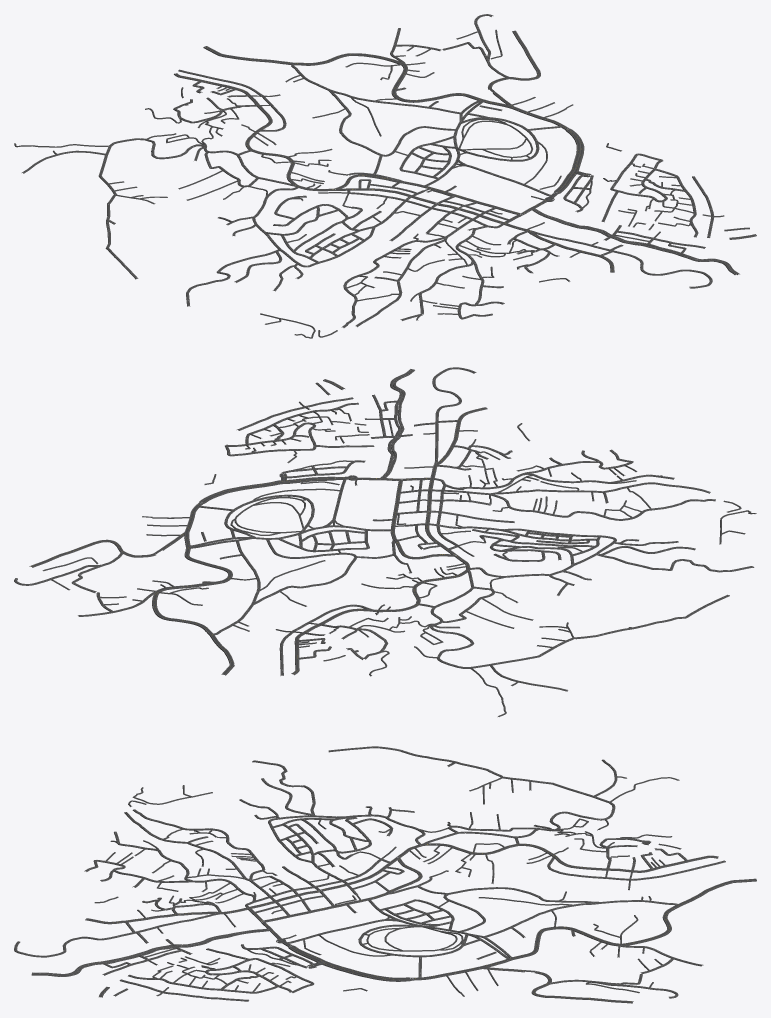
Rendered from osm_real_roads_T_W01_N01.glb.
The picture shows the model from 3 angles, top to bottom: view 1: azimuth 30°, elevation 25°; view 2: azimuth 150°, elevation 25°; view 3: azimuth 270°, elevation 25°; orthographic projection. The views are drawn at different scales.
Visible parts, largest first — view 1: OSM_Roads_T_W01_N01_asphalt_local, OSM_Roads_T_W01_N01_taluy_embankment, OSM_Roads_T_W01_N01_sidewalk_paver, OSM_Roads_T_W01_N01_asphalt_primary, OSM_Roads_T_W01_N01_granite_curb; view 2: OSM_Roads_T_W01_N01_asphalt_local, OSM_Roads_T_W01_N01_taluy_embankment, OSM_Roads_T_W01_N01_sidewalk_paver, OSM_Roads_T_W01_N01_granite_curb, OSM_Roads_T_W01_N01_asphalt_primary; view 3: OSM_Roads_T_W01_N01_taluy_embankment, OSM_Roads_T_W01_N01_asphalt_local, OSM_Roads_T_W01_N01_sidewalk_paver, OSM_Roads_T_W01_N01_asphalt_primary, OSM_Roads_T_W01_N01_granite_curb.
Part boxes in pixels (x1,y1,x2,y2): OSM_Roads_T_W01_N01_asphalt_local: (14,14,755,337); OSM_Roads_T_W01_N01_taluy_embankment: (14,15,756,338); OSM_Roads_T_W01_N01_sidewalk_paver: (24,14,755,326); OSM_Roads_T_W01_N01_asphalt_primary: (204,46,590,200); OSM_Roads_T_W01_N01_granite_curb: (22,17,746,315); OSM_Roads_T_W01_N01_asphalt_local: (14,367,755,716); OSM_Roads_T_W01_N01_taluy_embankment: (14,368,756,716); OSM_Roads_T_W01_N01_sidewalk_paver: (14,367,751,690); OSM_Roads_T_W01_N01_granite_curb: (26,367,736,687); OSM_Roads_T_W01_N01_asphalt_primary: (153,473,356,674); OSM_Roads_T_W01_N01_taluy_embankment: (14,747,756,1003); OSM_Roads_T_W01_N01_asphalt_local: (14,746,725,1002); OSM_Roads_T_W01_N01_sidewalk_paver: (14,746,756,1002); OSM_Roads_T_W01_N01_asphalt_primary: (277,879,756,980); OSM_Roads_T_W01_N01_granite_curb: (14,746,752,1002).
Size of the model in its own units: 2155 by 96.89 by 2586.
8 materials, 6 textured.
